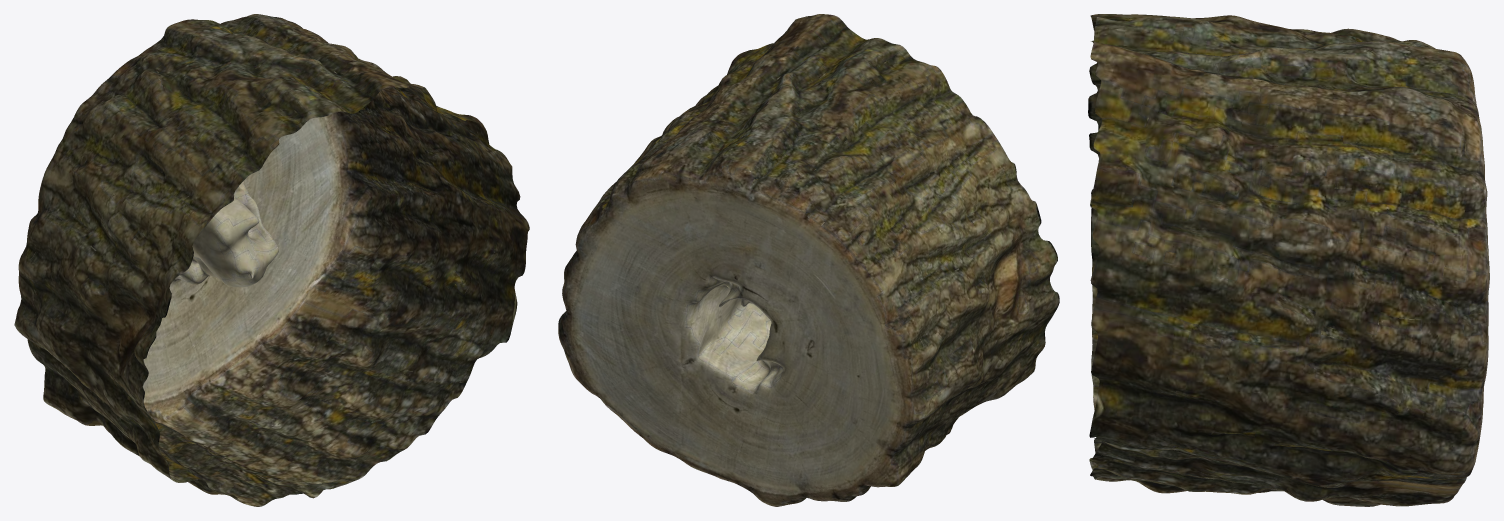
The model's file is cut_log_04.glb.
The picture shows the model from 3 angles, left to right: view 1: azimuth 30°, elevation 25°; view 2: azimuth 150°, elevation 25°; view 3: azimuth 270°, elevation 25°; orthographic projection. The views are drawn at different scales.
Visible parts, largest first — view 1: Cut log 04 - remeshed photoscan; view 2: Cut log 04 - remeshed photoscan; view 3: Cut log 04 - remeshed photoscan.
Boxes of the visible parts, x1=… form: Cut log 04 - remeshed photoscan: x1=14, y1=14, x2=529, y2=506; Cut log 04 - remeshed photoscan: x1=558, y1=14, x2=1059, y2=506; Cut log 04 - remeshed photoscan: x1=1088, y1=14, x2=1489, y2=506.
Bounding box in the file's own units: 0.3059 × 0.3077 × 0.2313.
1 material, 1 textured.
